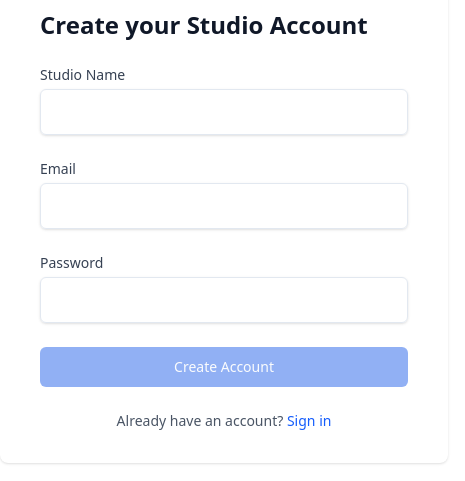
SignupPage › Form Validation › enables submit when all fields are valid
Type "My Studio" into the field labelled "Studio Name" at coordinates (224, 112), box [40,89,408,135]
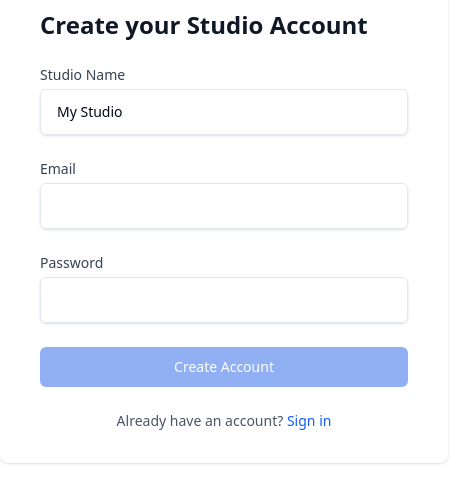
Type "test@studio.com" into the field labelled "Email" at coordinates (224, 206), box [40,183,408,229]
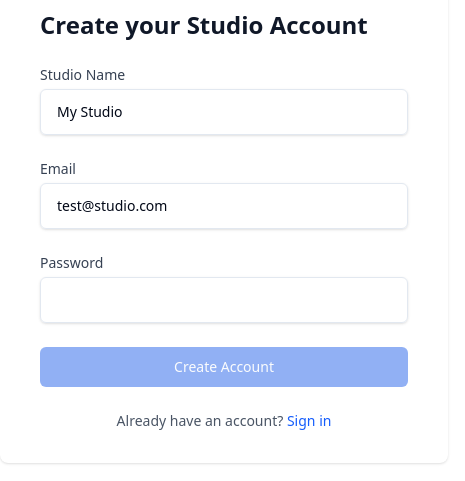
Type "password123" into the password field labelled "Password" at coordinates (224, 300), box [40,277,408,323]
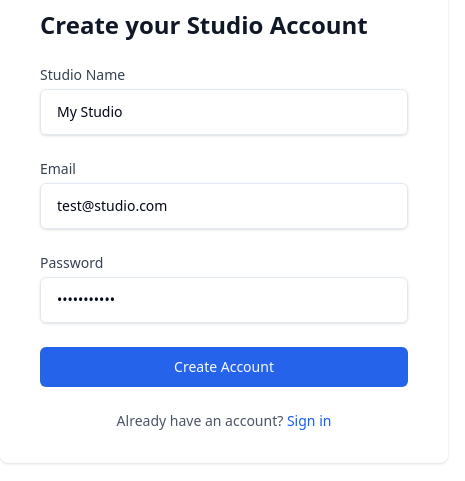
expect the button "Create Account" is enabled: met, box [40,347,408,387]
